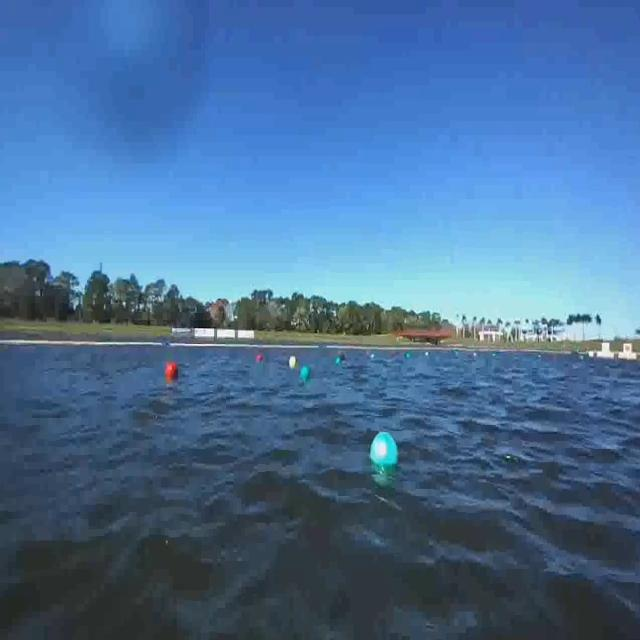green-buoy: (372, 433, 399, 469), (302, 364, 312, 378)
red-buoy: (167, 362, 179, 378)
yellow-buoy: (288, 356, 296, 370)
